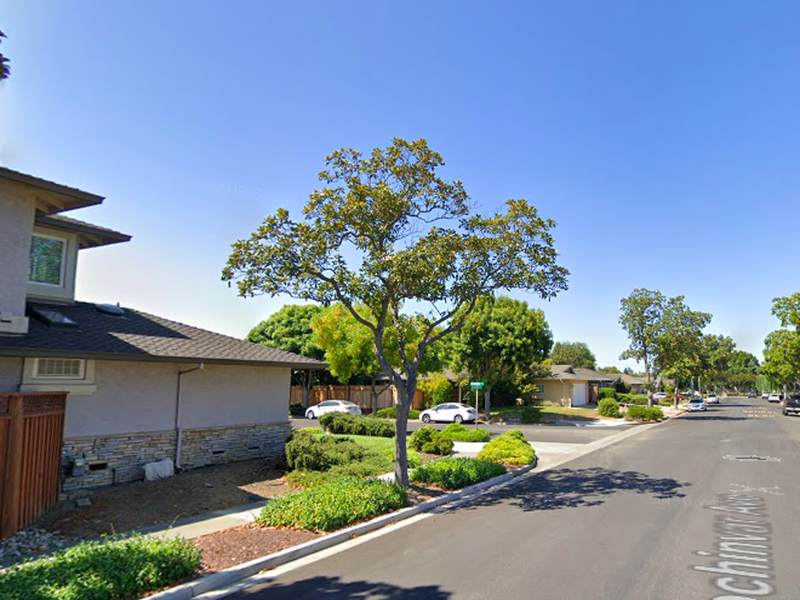tree: (220, 135, 571, 492)
